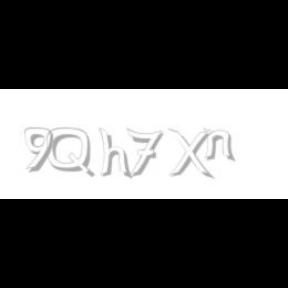7: (126, 128, 163, 178)
9: (24, 128, 54, 172)
Q: (47, 128, 93, 178)
X: (167, 128, 211, 180)
h: (98, 128, 134, 180)
n: (202, 128, 236, 162)
